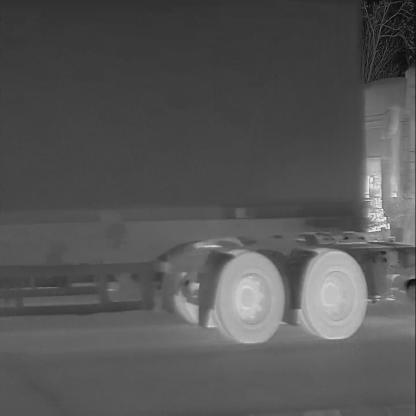truck: (5, 19, 413, 340)
